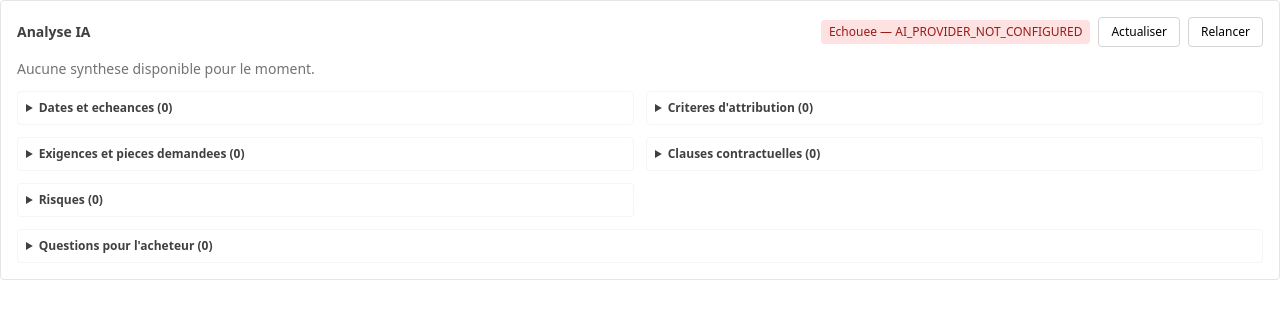
AnalysisSection › shows the error code and a Relancer button when the last analysis FAILED, and retries it
This screenshot has width=1280, height=329.
Check: the text "Echouee — AI_PROVIDER_NOT_CONFIGURED" is shown, box [821,20,1090,44]
Click the button "Relancer" at coordinates (1226, 32), box [1188,17,1263,47]
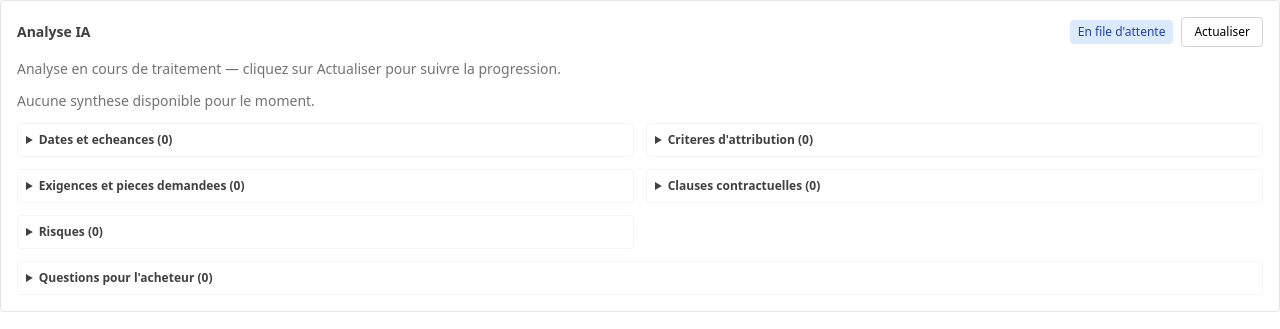
Check: the text "En file d'attente" is shown, box [1070,20,1173,44]
